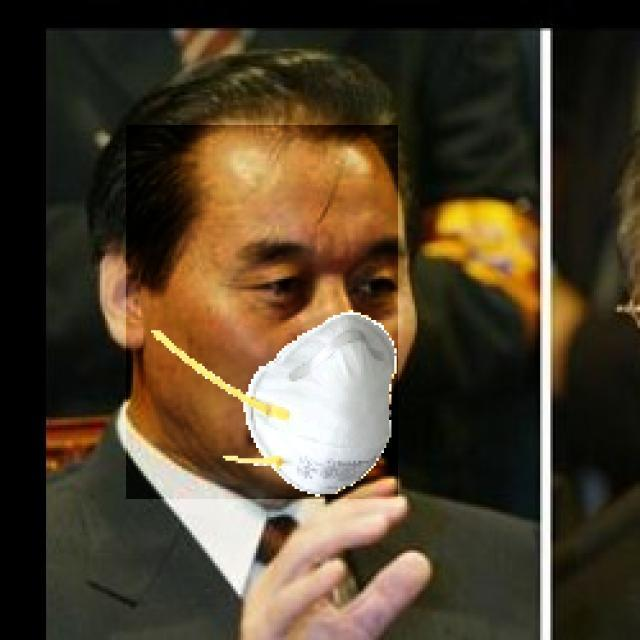n95: (126, 125, 398, 499)
